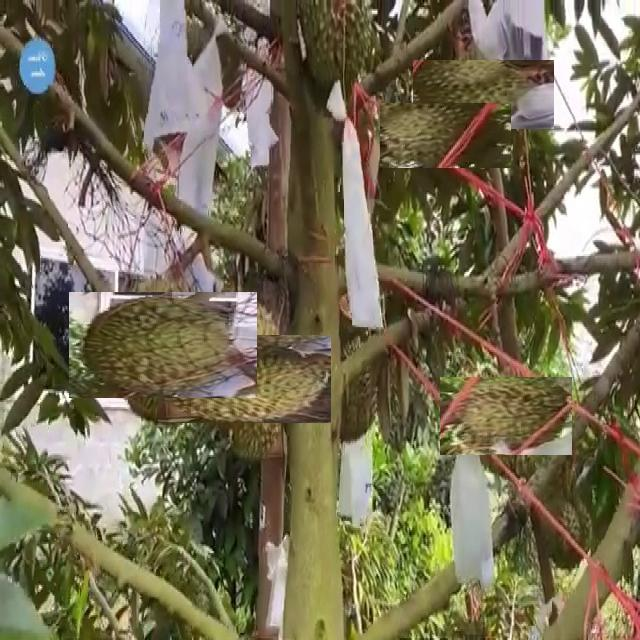durian: (89, 271, 236, 419), (179, 313, 310, 444), (430, 42, 536, 147), (453, 364, 559, 469), (396, 87, 495, 185), (290, 0, 382, 103), (532, 486, 600, 574)
